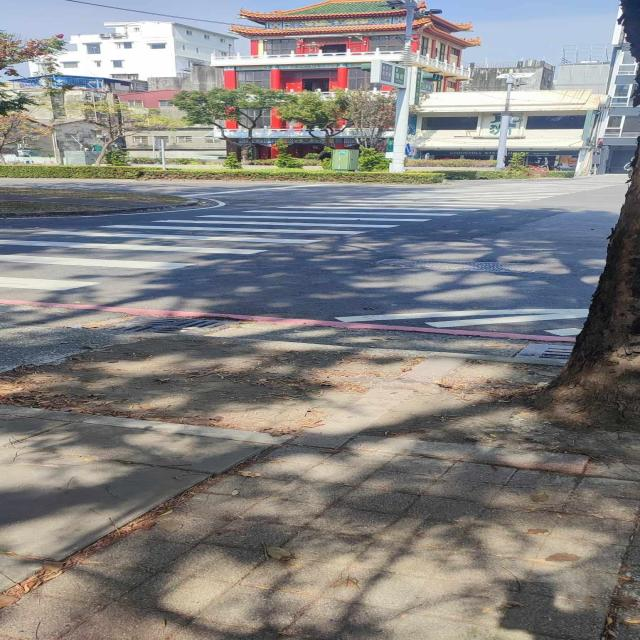zebra_crossing: (0, 129, 2, 415)
